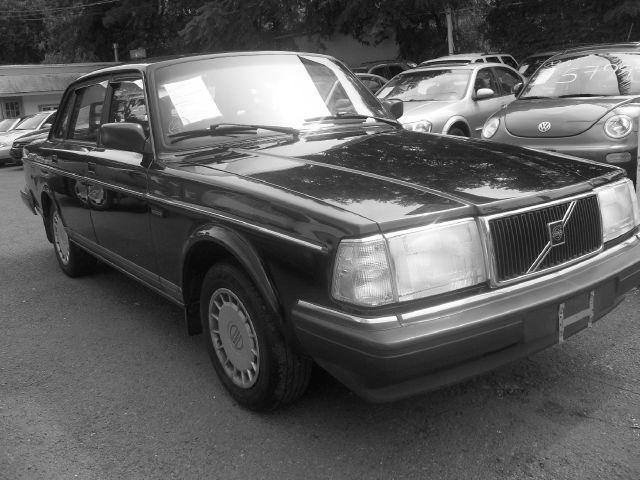car: (19, 44, 639, 426)
